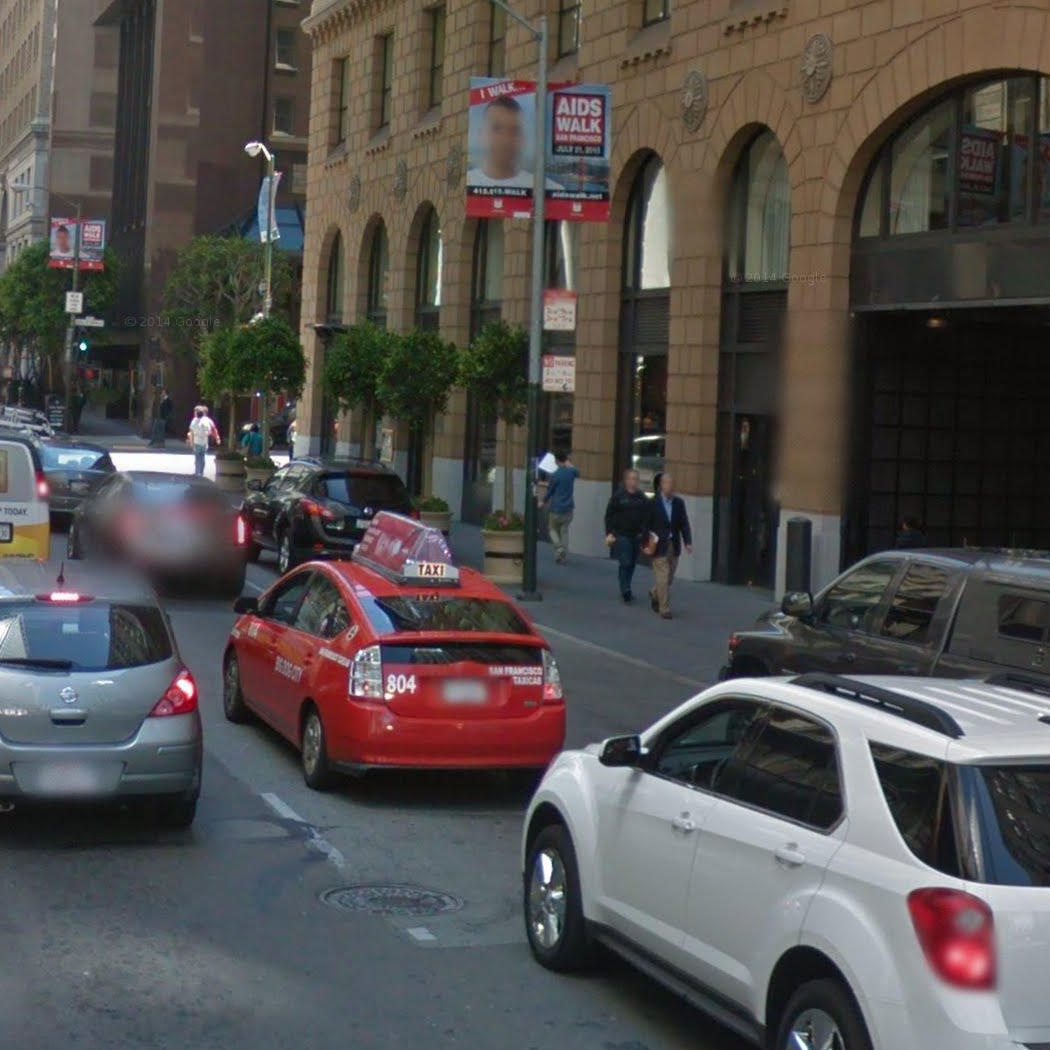No Parking: (539, 352, 577, 394)
